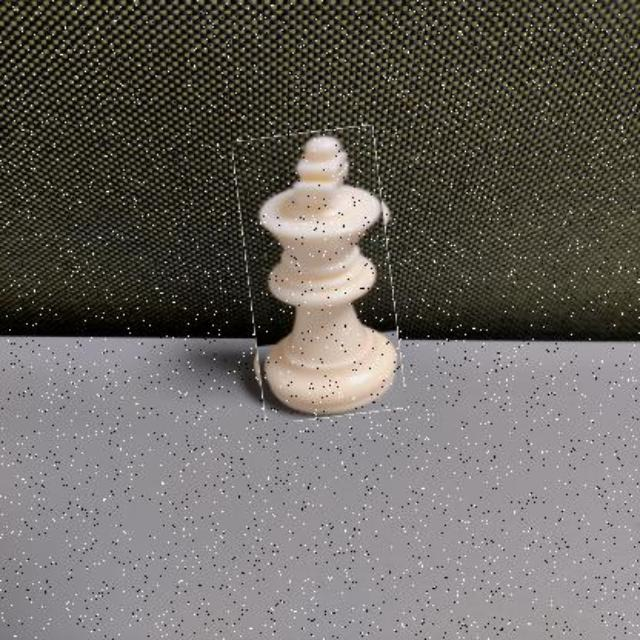white-king: (242, 130, 398, 420)
